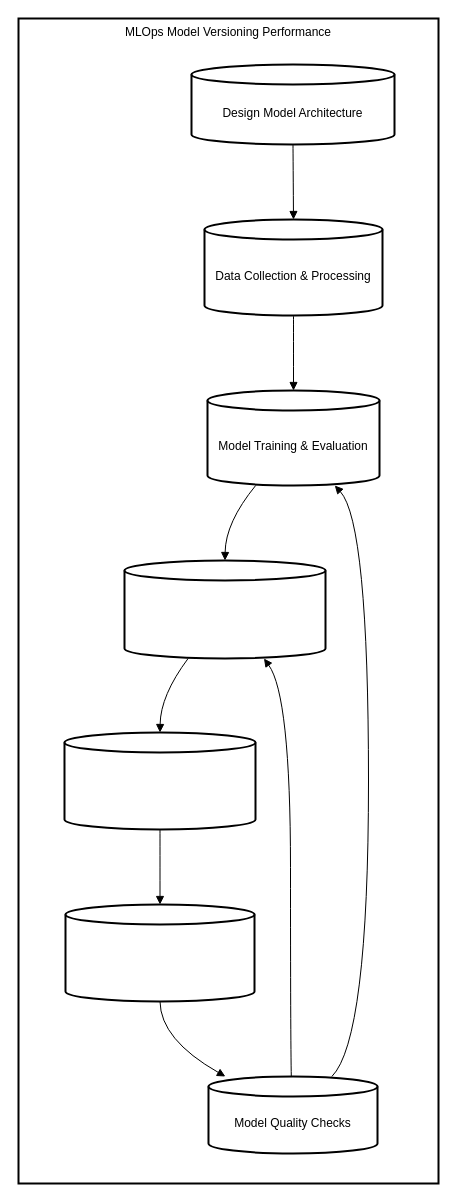
This 456x1201 diagram has some shape labels left out. The shapes that lost their labels are listed below. From the top down, each one's centre as x and y in pixels, then its label:
point (224, 609): Model Deployment & Monitoring
point (159, 780): Model Monitoring & Feedback
point (159, 952): Model Versioning & Metadata
